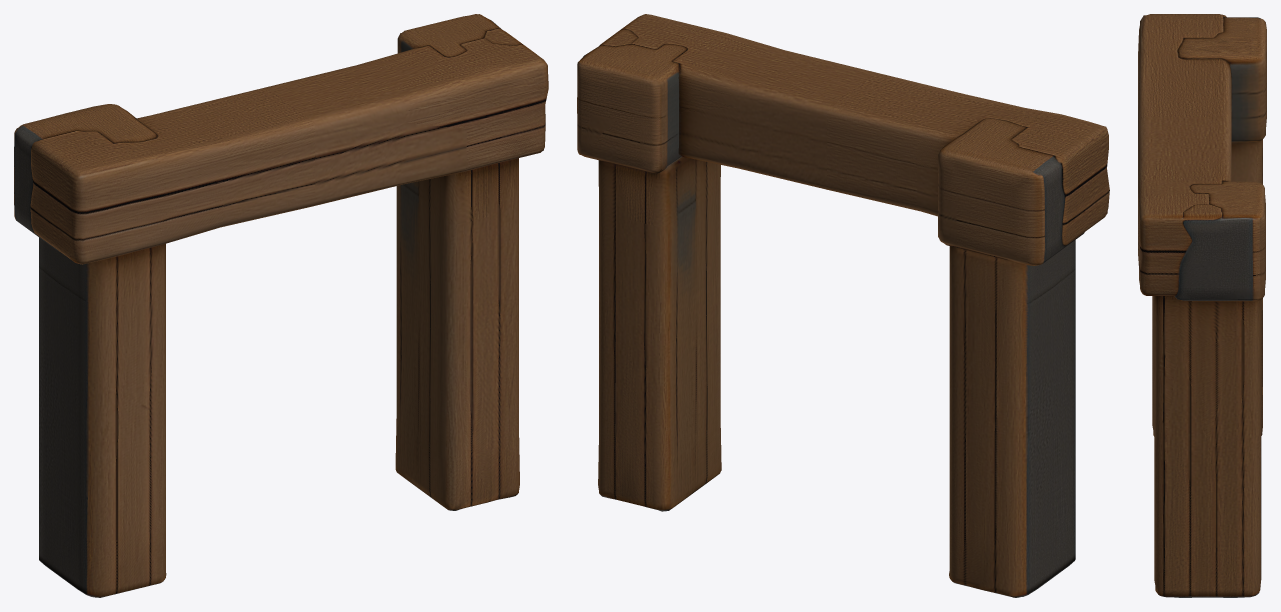
The model's file is prop_scaffold.glb.
3 views of the same model, side by side, from view 1: azimuth 30°, elevation 25°; view 2: azimuth 150°, elevation 25°; view 3: azimuth 270°, elevation 25° (orthographic). The views are drawn at different scales.
Parts seen in each view (by area): view 1: tripo_node_643fc20a-e6b5-42ab-aaa3-1a546d3bdc5a; view 2: tripo_node_643fc20a-e6b5-42ab-aaa3-1a546d3bdc5a; view 3: tripo_node_643fc20a-e6b5-42ab-aaa3-1a546d3bdc5a.
Boxes of the visible parts, <box> form: tripo_node_643fc20a-e6b5-42ab-aaa3-1a546d3bdc5a: <box>14,14,548,597</box>; tripo_node_643fc20a-e6b5-42ab-aaa3-1a546d3bdc5a: <box>577,14,1109,597</box>; tripo_node_643fc20a-e6b5-42ab-aaa3-1a546d3bdc5a: <box>1138,14,1266,597</box>.
Size of the model in its own units: 0.998 by 0.8848 by 0.2637.
Materials: 1 (1 with a texture image).
